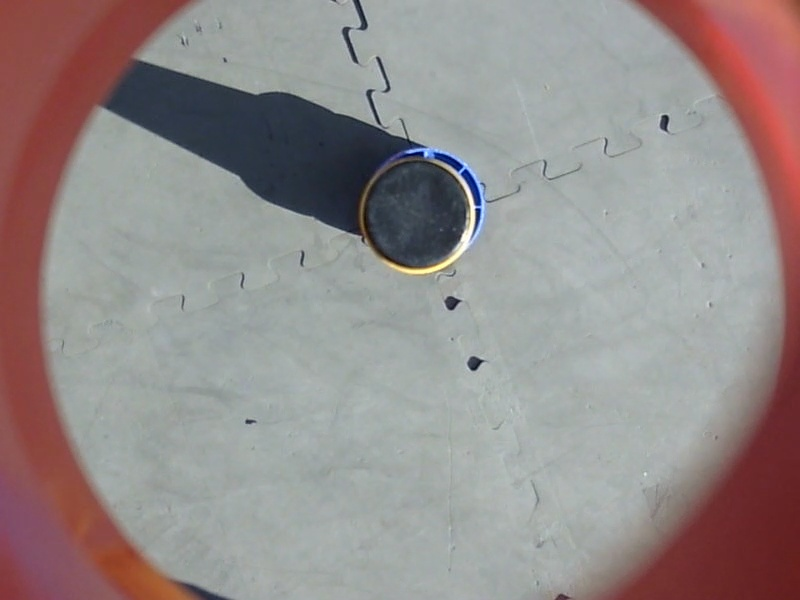tip: (353, 149, 481, 282)
